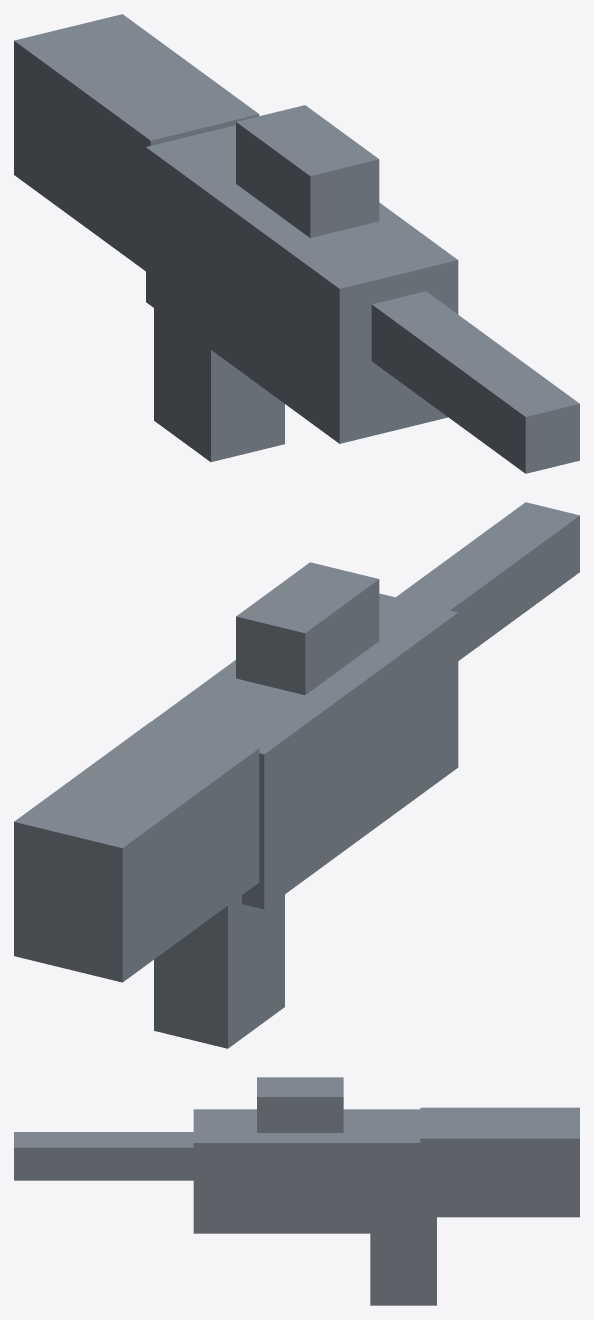
The model's file is fusefire_rifle_proxy.glb.
The picture shows the model from 3 angles, top to bottom: view 1: azimuth 30°, elevation 25°; view 2: azimuth 150°, elevation 25°; view 3: azimuth 270°, elevation 25°; orthographic projection. The views are drawn at different scales.
Parts seen in each view (by area): view 1: Receiver, Stock, Barrel, Sight, Grip; view 2: Stock, Receiver, Grip, Sight, Barrel; view 3: Receiver, Stock, Barrel, Grip, Sight.
Part boxes in pixels (x1=…): Receiver: x1=146, y1=125, x2=458, y2=443; Stock: x1=14, y1=14, x2=259, y2=271; Barrel: x1=371, y1=291, x2=579, y2=473; Sight: x1=236, y1=105, x2=379, y2=237; Grip: x1=154, y1=308, x2=284, y2=461; Stock: x1=14, y1=721, x2=259, y2=982; Receiver: x1=151, y1=593, x2=458, y2=909; Grip: x1=154, y1=894, x2=284, y2=1048; Sight: x1=236, y1=562, x2=379, y2=694; Barrel: x1=396, y1=502, x2=579, y2=660; Receiver: x1=193, y1=1109, x2=420, y2=1233; Stock: x1=420, y1=1107, x2=579, y2=1217; Barrel: x1=14, y1=1132, x2=193, y2=1180; Grip: x1=370, y1=1217, x2=436, y2=1305; Sight: x1=257, y1=1077, x2=343, y2=1132.
Bounding box in the file's own units: 0.12 × 0.345 × 0.85.
